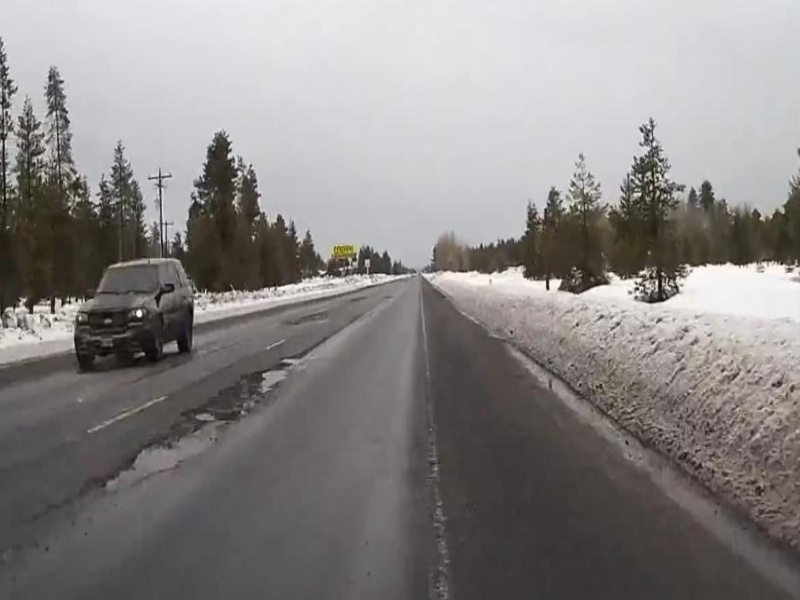pothole: (92, 423, 219, 495), (197, 359, 308, 427)
